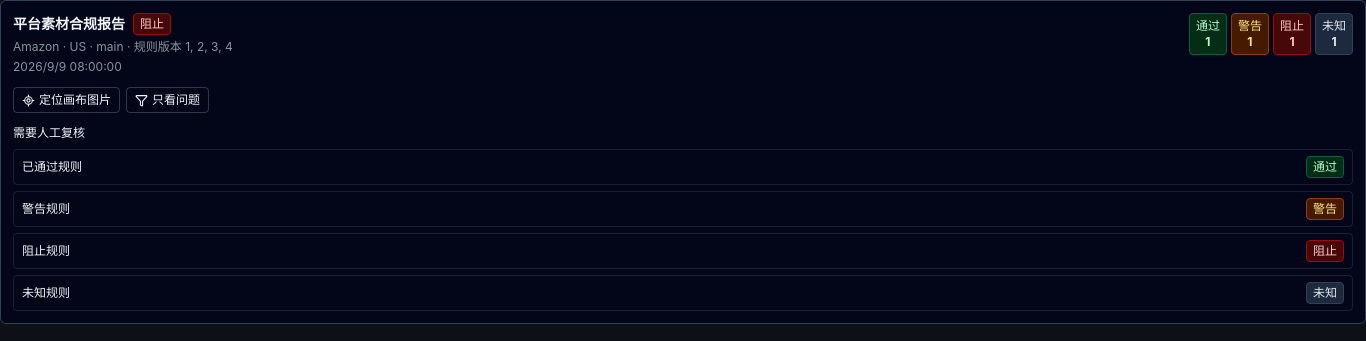
PlatformComplianceReportCard › renders pass warning blocked and unknown without relying on color
Expected: the text "通过" in the row of "平台素材合规报告" is shown, [1196, 18, 1220, 33]
Expected: the text "阻止" next to "平台素材合规报告" is shown, [140, 16, 164, 31]
Click the button "只看问题" at (168, 100), box [126, 87, 209, 113]
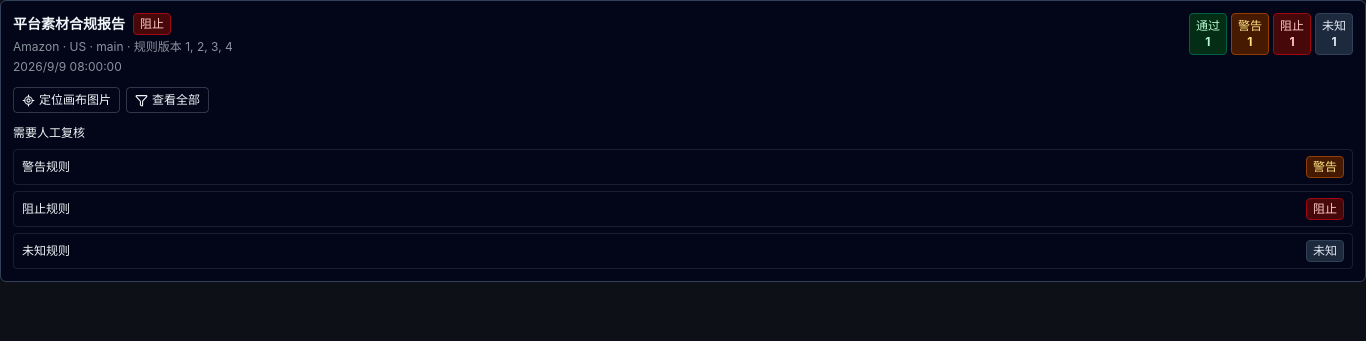
Expected: the heading "已通过规则" is gone
